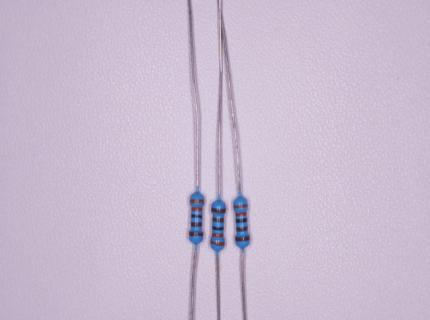Black band: (191, 214, 202, 219), (236, 218, 247, 223), (213, 226, 224, 230)
Brown band: (189, 232, 203, 237), (235, 236, 249, 241), (211, 208, 226, 212), (212, 217, 224, 222), (191, 222, 202, 227), (237, 227, 248, 232)
Orange band: (211, 240, 224, 246), (190, 199, 204, 203), (234, 204, 247, 208), (191, 207, 202, 211), (212, 233, 223, 237), (236, 212, 247, 216)
